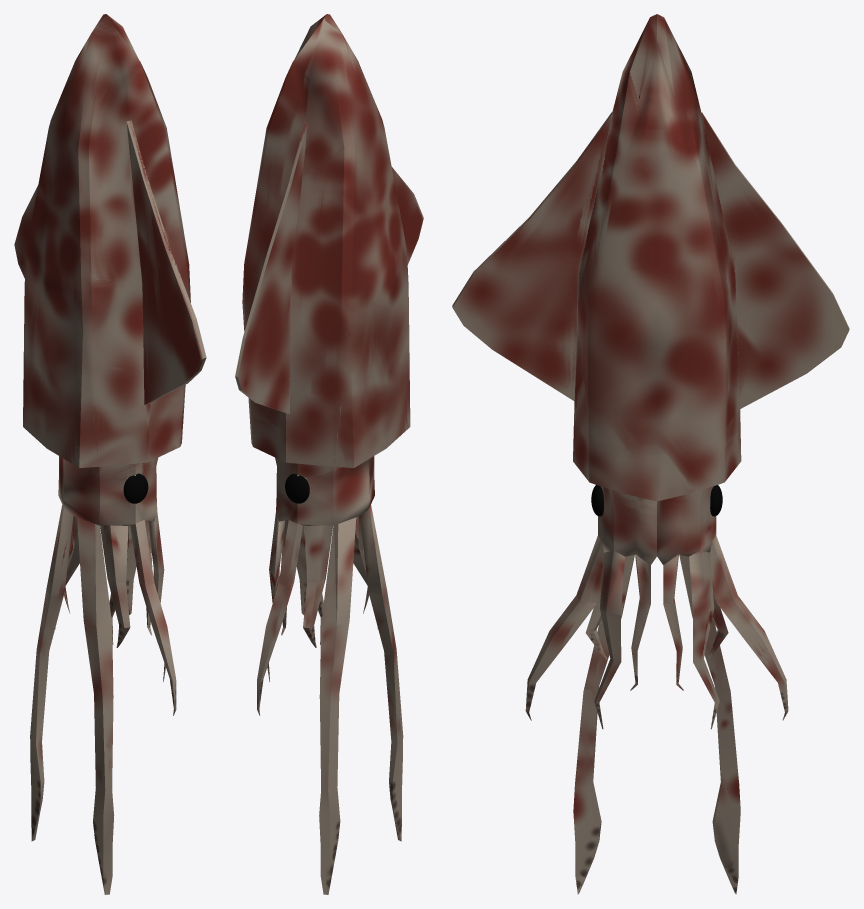
Rendered from Diamondback Squid.glb.
3 renders of one model, left to right at view 1: azimuth 30°, elevation 25°; view 2: azimuth 150°, elevation 25°; view 3: azimuth 270°, elevation 25°, orthographic. The views are drawn at different scales.
Visible parts, largest first — view 1: Arm Squid; view 2: Arm Squid; view 3: Arm Squid.
Part boxes in pixels (x1,y1,x2,y2): Arm Squid: [14, 14, 206, 894]; Arm Squid: [235, 14, 423, 894]; Arm Squid: [452, 14, 849, 894].
Size of the model in its own units: 0.7992 by 5.21 by 2.08.
1 material, 1 textured.
